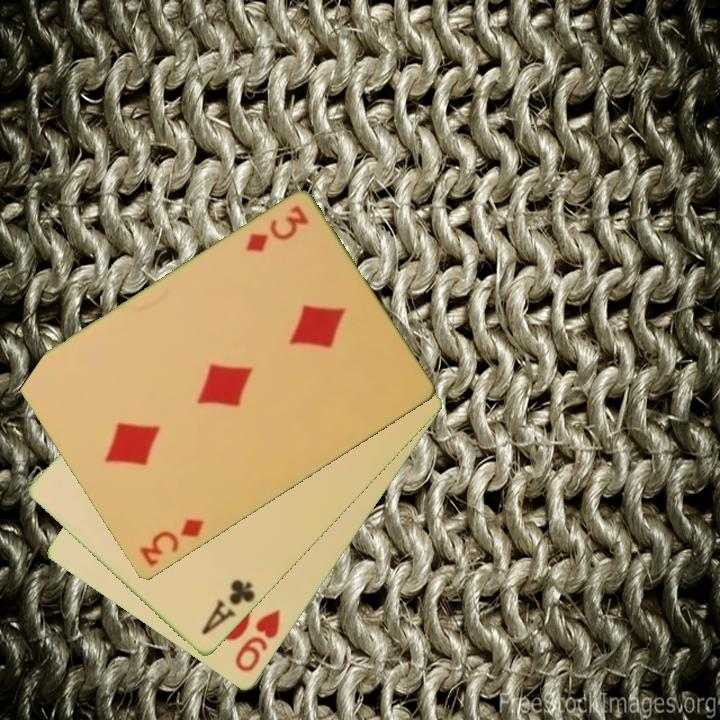3d: (135, 514, 207, 571), (242, 202, 312, 256)
9h: (231, 606, 284, 676)
Ac: (197, 576, 258, 639)
